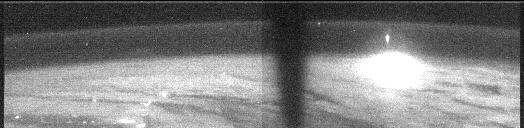positive: (381, 32, 393, 45)
